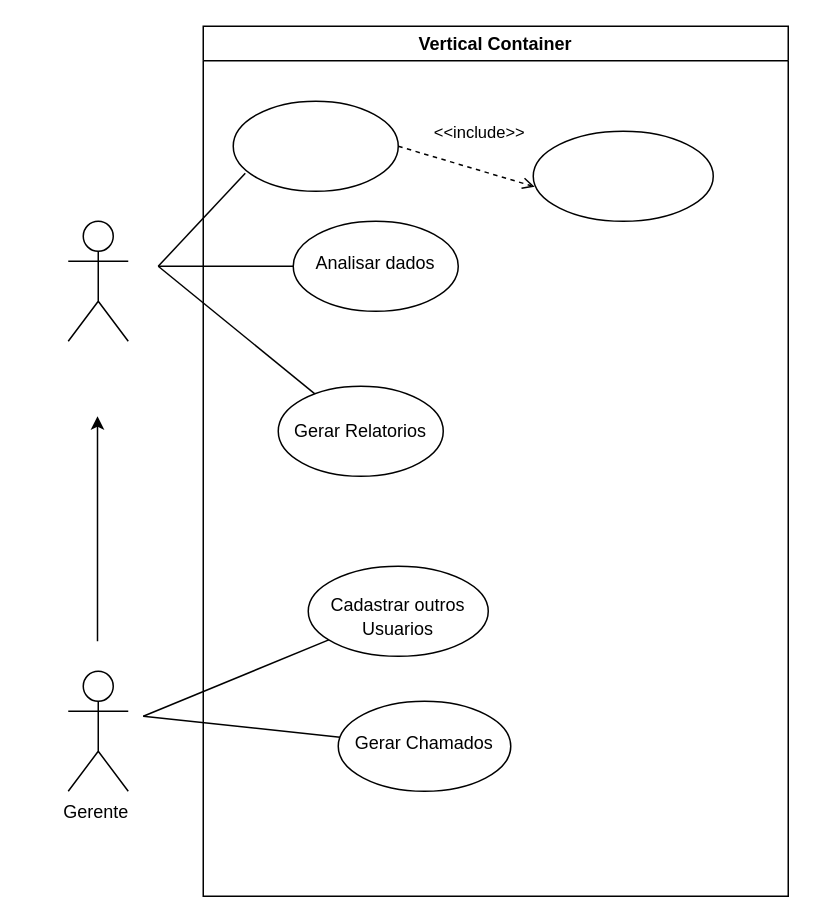
This 815x923 diagram has some shape labels left out. The centre of each missing label's shape, as x and y in pixels:
Acessar o Sistema: point 315,145
Analista de Dados: point 97,280
Manter Dados: point 622,175
